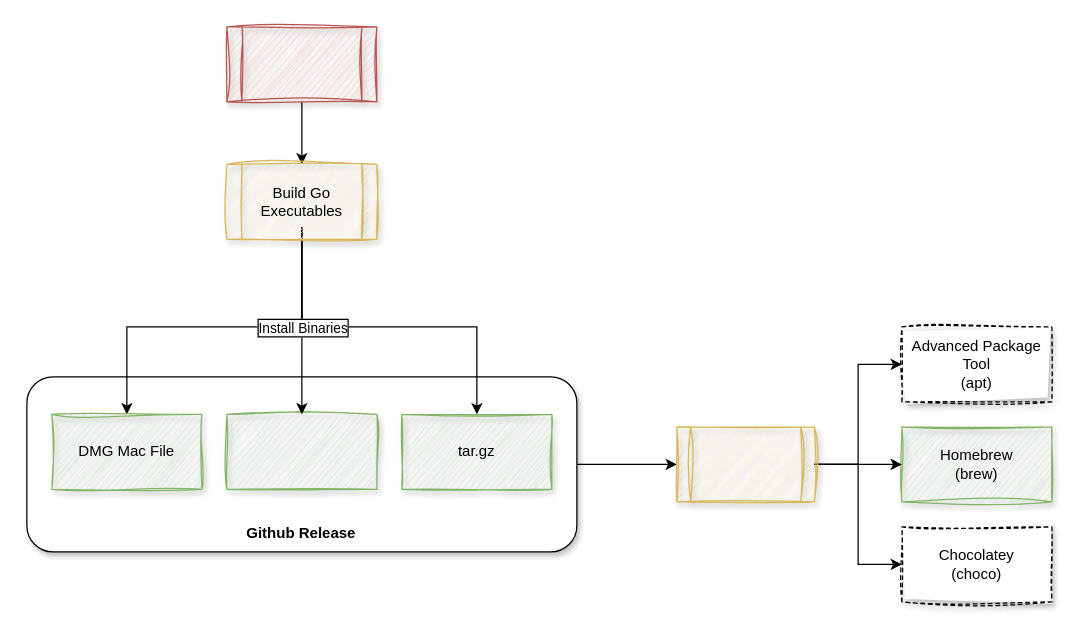
Image size: 1081x633. Some labels were removed from this diagram. Here are the shapes that lost their labels. From the top down, the centre of each, then its label:
At point 302,66: "Deployment".
At point 302,453: ".exe/.msi Windows File".
At point 746,466: "Publish to Package Manager".
